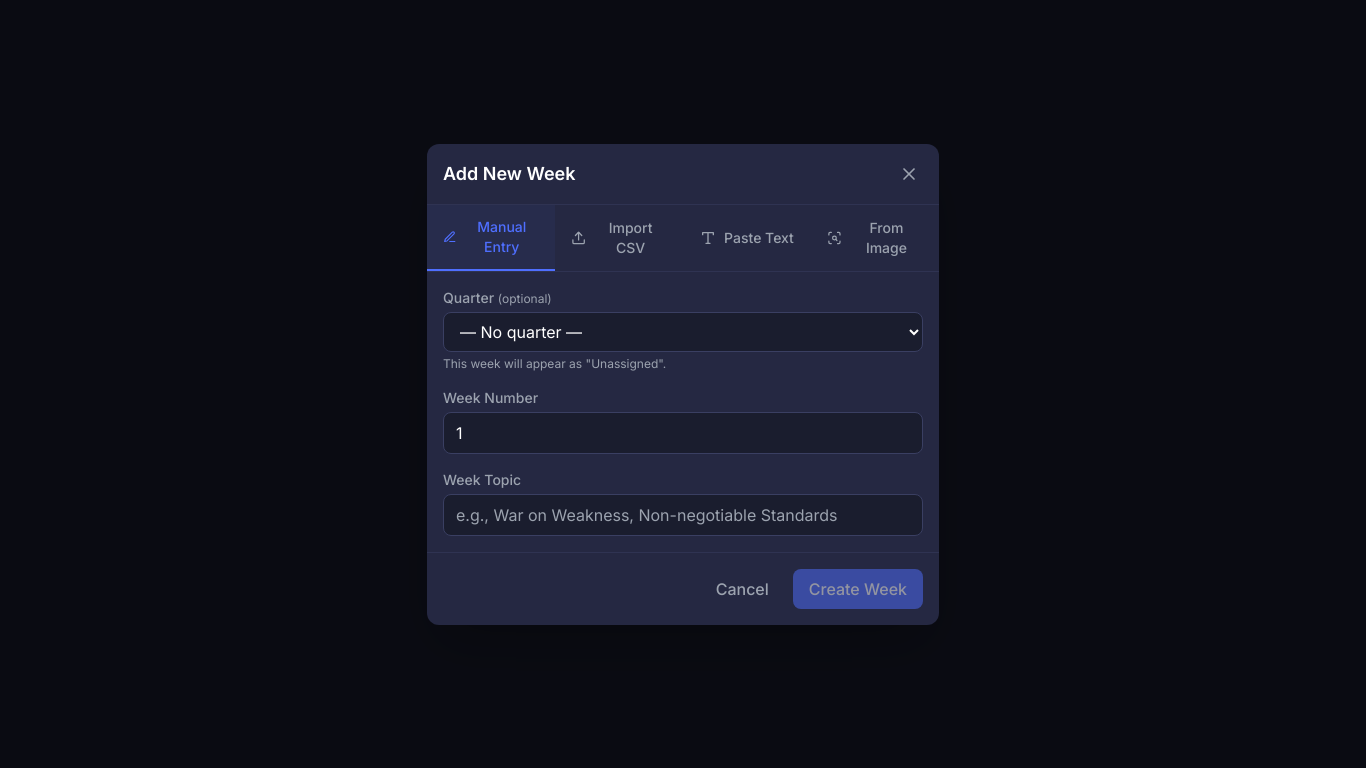
Scenario: WeekModal › shows duplicate week number error for weekNumbersInQuarter
Replace the text in the number field with "3" at (683, 432), box [443, 412, 923, 454]
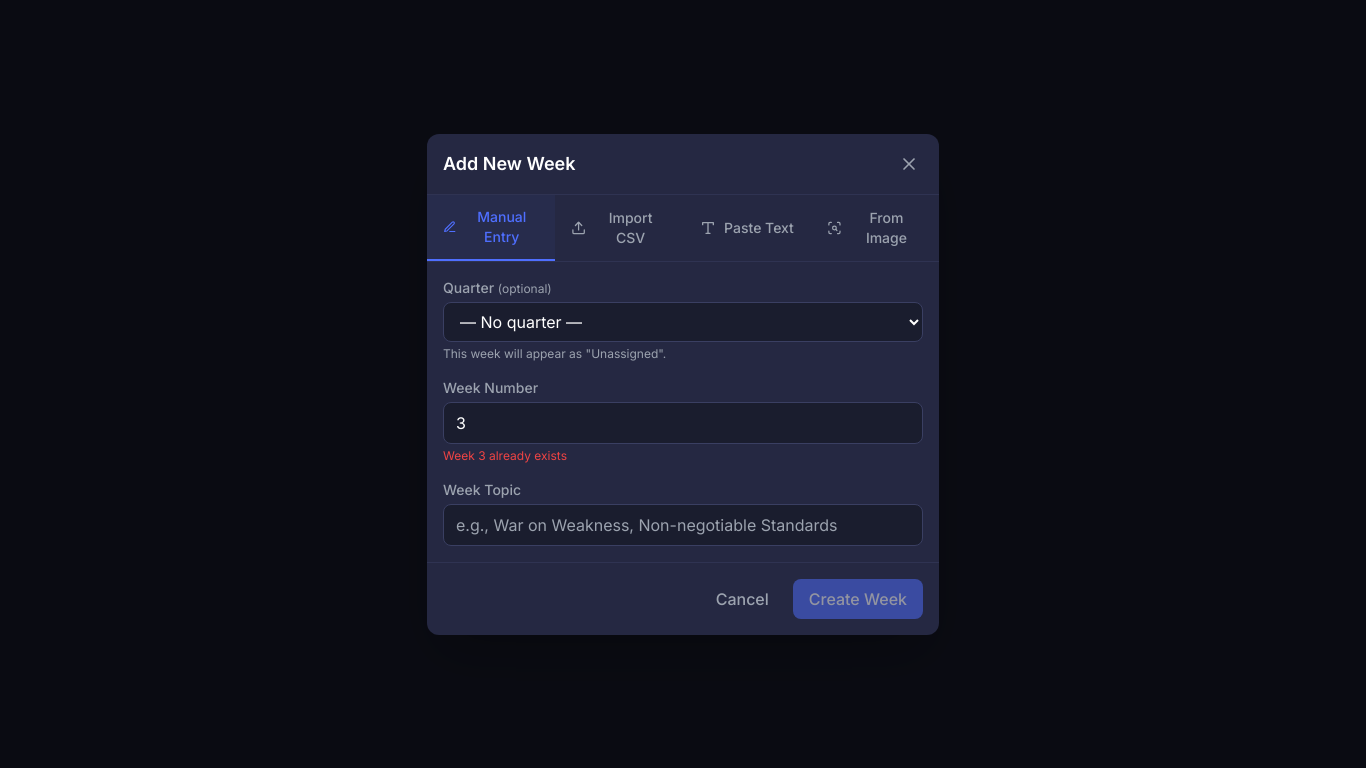
Now the text "Week 3 already exists" is shown, box [443, 448, 567, 462]
